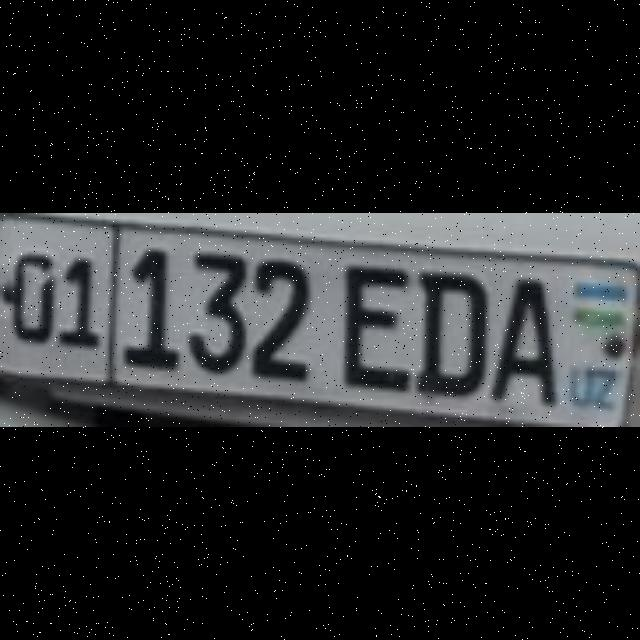0: (7, 248, 49, 336)
1: (120, 245, 176, 368), (53, 255, 95, 343)
2: (246, 255, 306, 378)
3: (183, 248, 243, 372)
A: (486, 272, 548, 400)
D: (412, 270, 482, 392)
E: (338, 262, 404, 390)
